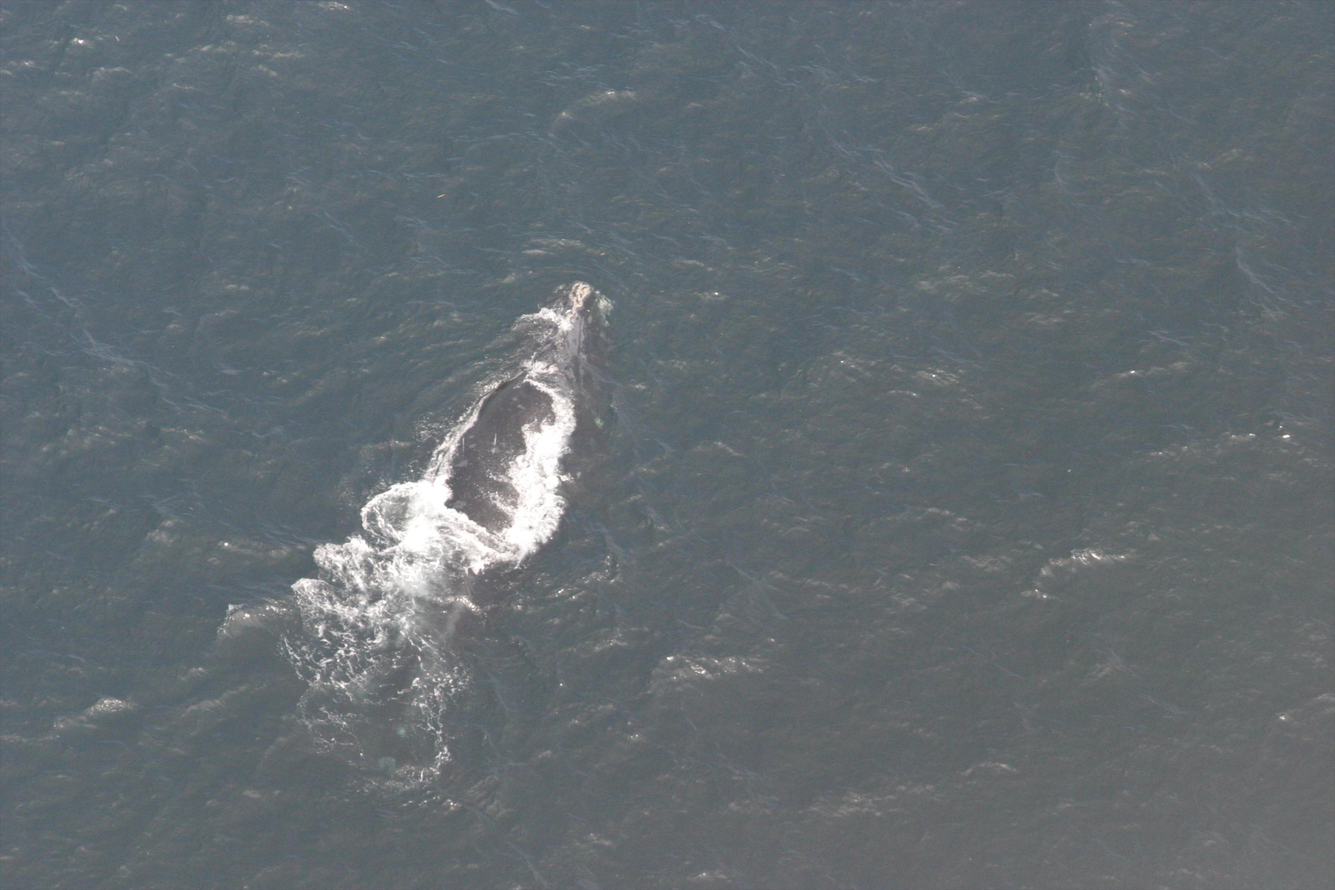whale: (270, 262, 644, 800)
